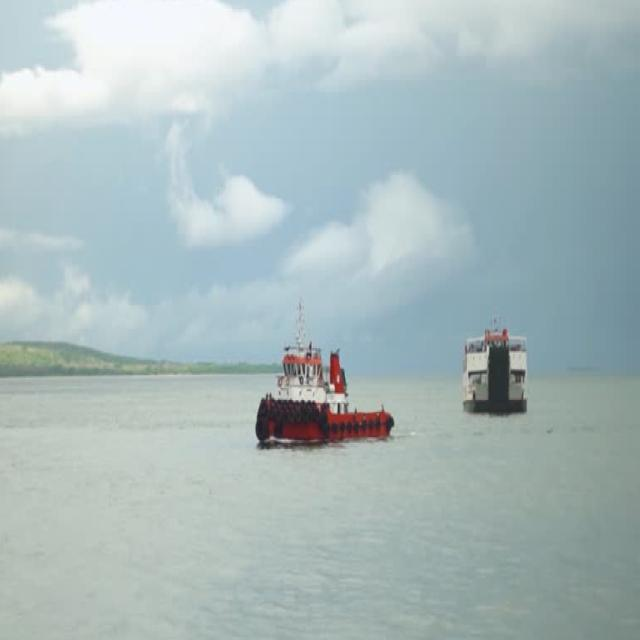fishing boat: (251, 314, 399, 476), (465, 308, 540, 418)
